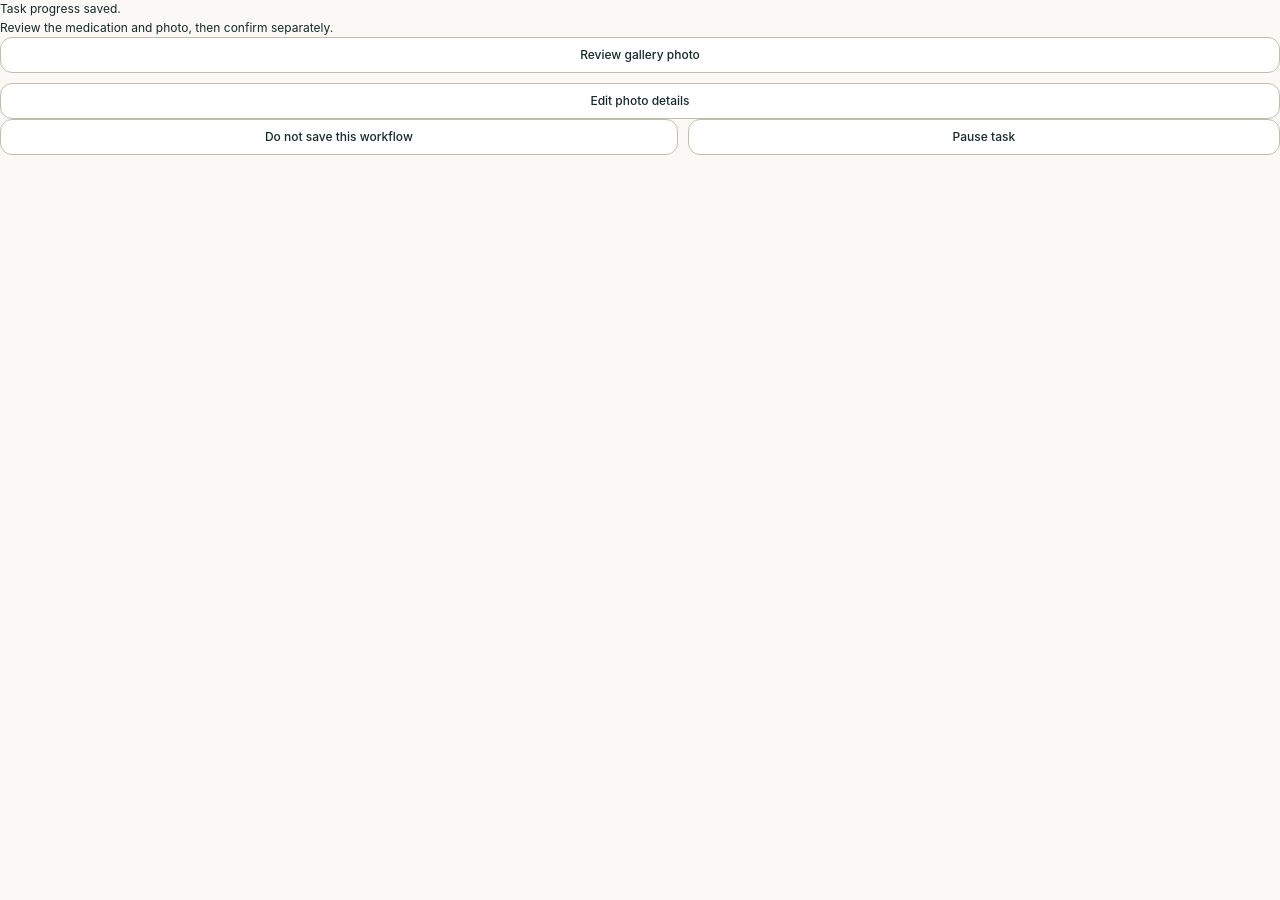
Test: loads a saved original on resume and uploads only after separate consent and confirmation
The image size is (1280, 900).
Later steps or results of the test are not shown.
What coordinates should you click on to do the following:
click the button "Review gallery photo"
I would click on:
 (640, 55)
Its box is x1=0 y1=37 x2=1279 y2=73.
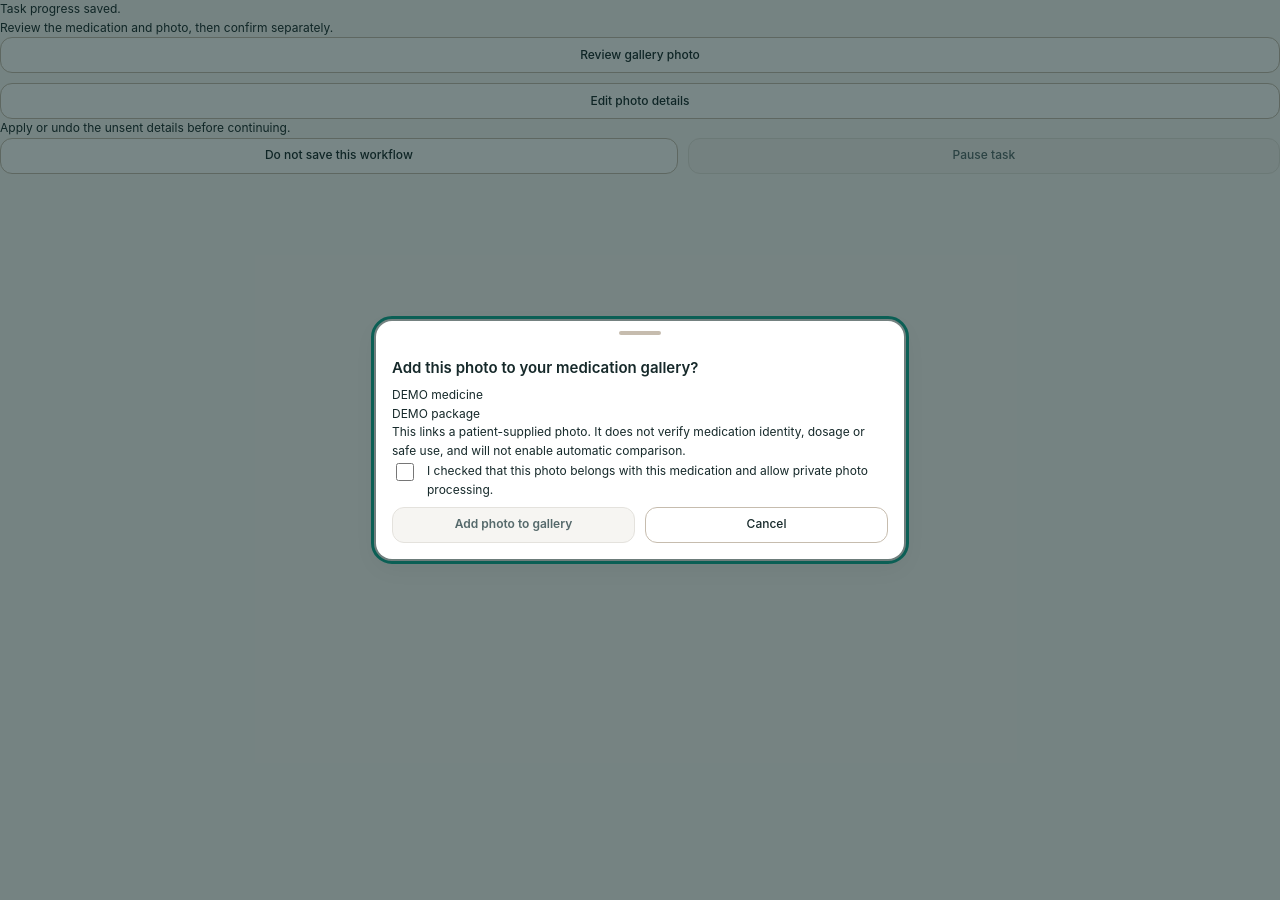
Check: the dialog shows "DEMO medicine", box x1=392 y1=387 x2=483 y2=402
Check: the button "Add photo to gallery" is disabled, box x1=392 y1=507 x2=635 y2=543
